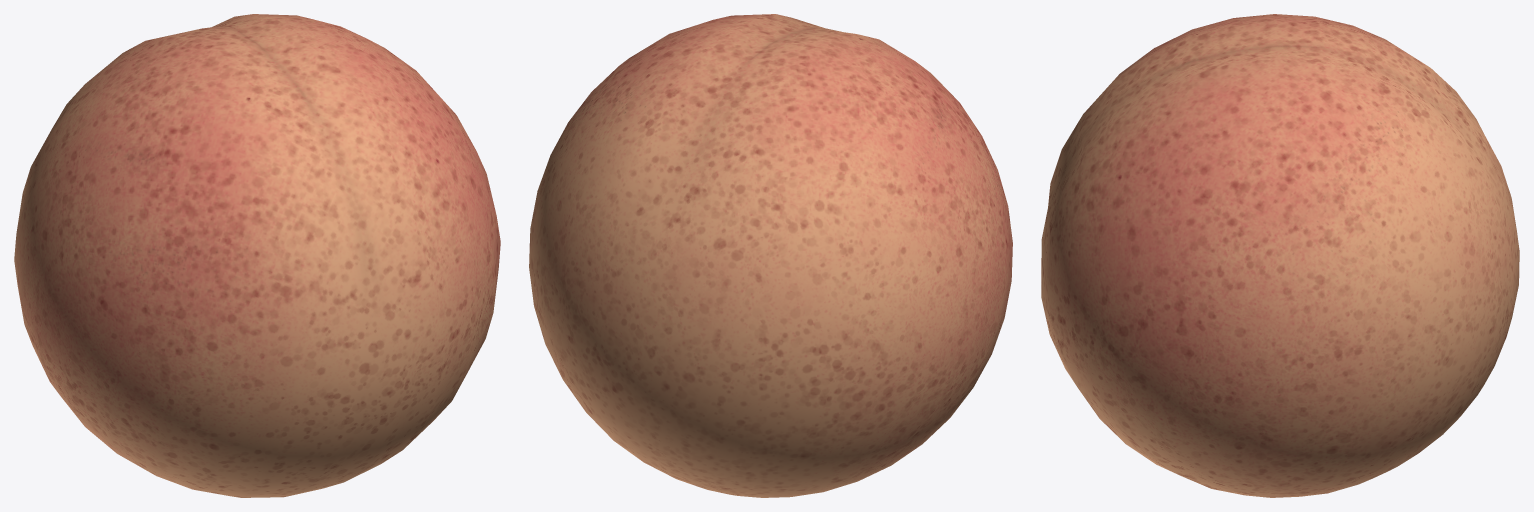
The model's file is Assteroids04.glb.
3 renders of one model, left to right at view 1: azimuth 30°, elevation 25°; view 2: azimuth 150°, elevation 25°; view 3: azimuth 270°, elevation 25°, orthographic.
Visible parts, largest first — view 1: Ass04; view 2: Ass04; view 3: Ass04.
Boxes of the visible parts, x1,y1,x2,y2 form: Ass04: (14,14,500,497); Ass04: (529,14,1012,497); Ass04: (1041,14,1519,497).
Bounding box in the file's own units: 1.99 × 1.97 × 1.97.
1 material, 1 textured.
